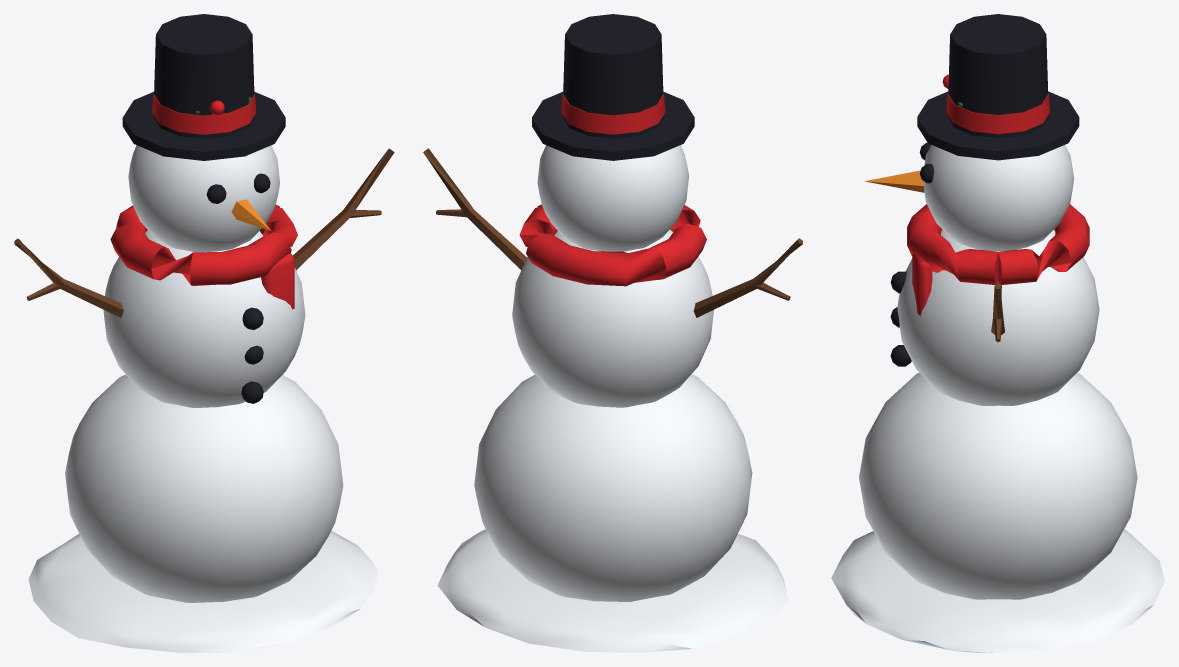
The model's file is Snowman2.fbx.
The picture shows the model from 3 angles, left to right: view 1: azimuth 30°, elevation 25°; view 2: azimuth 150°, elevation 25°; view 3: azimuth 270°, elevation 25°; orthographic projection.
Visible parts, largest first — view 1: Snowman2; view 2: Snowman2; view 3: Snowman2.
Boxes of the visible parts, bbox=[...] form: Snowman2: bbox=[14, 14, 394, 652]; Snowman2: bbox=[423, 14, 802, 652]; Snowman2: bbox=[831, 14, 1164, 652].
Size of the model in its own units: 1.72 by 2.43 by 1.32.
Materials: 1 (1 with a texture image).
